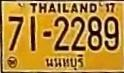1: (29, 16, 34, 50)
2: (54, 16, 68, 50), (70, 16, 84, 50)
7: (8, 16, 23, 50)
8: (87, 16, 101, 50)
9: (104, 16, 118, 49)
NBI: (43, 53, 85, 72)
